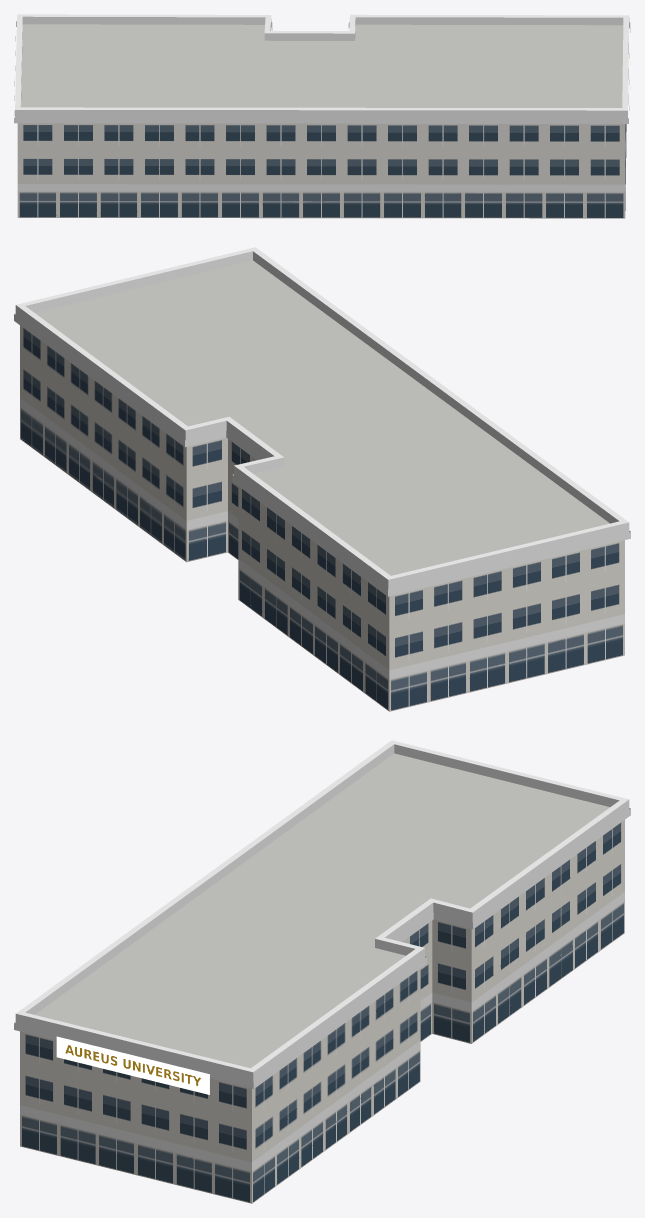
The model's file is aureus.glb.
3 views of the same model, one above another, from view 1: azimuth 30°, elevation 25°; view 2: azimuth 150°, elevation 25°; view 3: azimuth 270°, elevation 25° (orthographic). The views are drawn at different scales.
Visible parts, largest first — view 1: aureus_lod0; view 2: aureus_lod0; view 3: aureus_lod0.
Part boxes in pixels (<box>): aureus_lod0: <box>14,14,630,218</box>; aureus_lod0: <box>14,247,630,711</box>; aureus_lod0: <box>14,740,630,1203</box>.
Size of what is drawn, in the model's own units: 62.26 by 11.6 by 48.66.
Materials: 5 (3 with a texture image).
